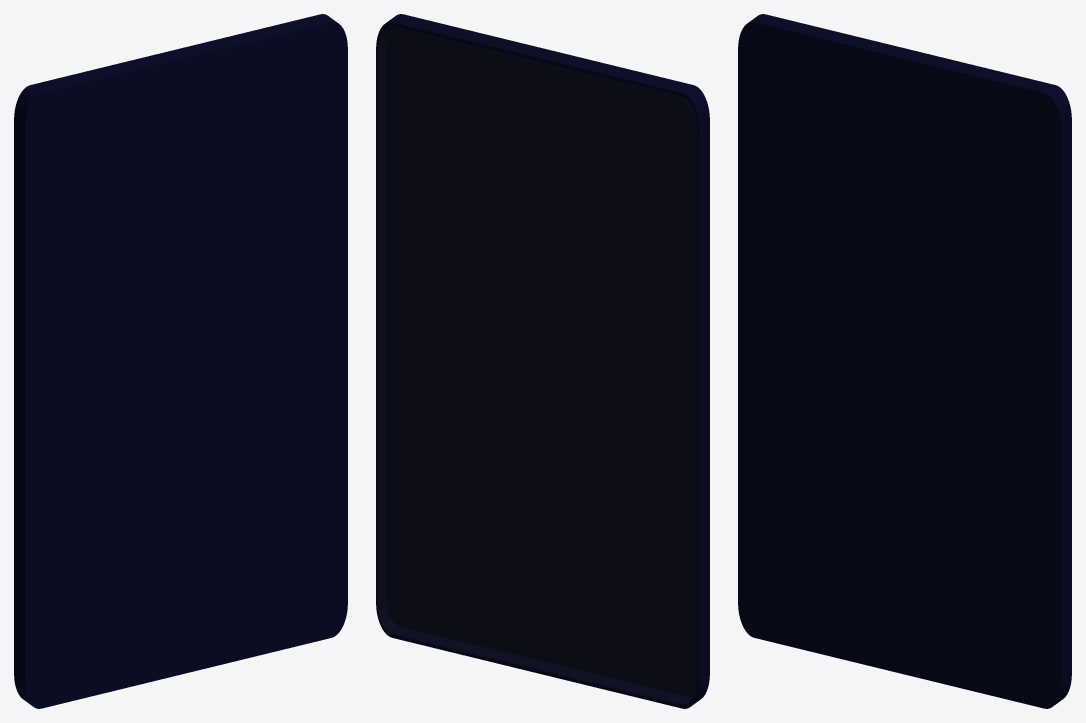
Rendered from Phone.fbx.
3 renders of one model, left to right at view 1: azimuth 30°, elevation 25°; view 2: azimuth 150°, elevation 25°; view 3: azimuth 330°, elevation 25°, orthographic.
Parts seen in each view (by area): view 1: PhoneFrame; view 2: PhoneFrame, PhoneScreen; view 3: PhoneFrame.
Part boxes in pixels (x1,y1,x2,y2): PhoneFrame: (14,14,347,708); PhoneFrame: (376,14,709,708); PhoneScreen: (377,26,696,704); PhoneFrame: (738,14,1071,708).
Size of the model in its own units: 200 by 364 by 12.65.
